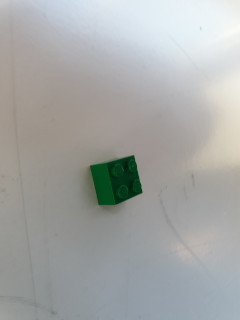2x2 green: (85, 154, 144, 208)
